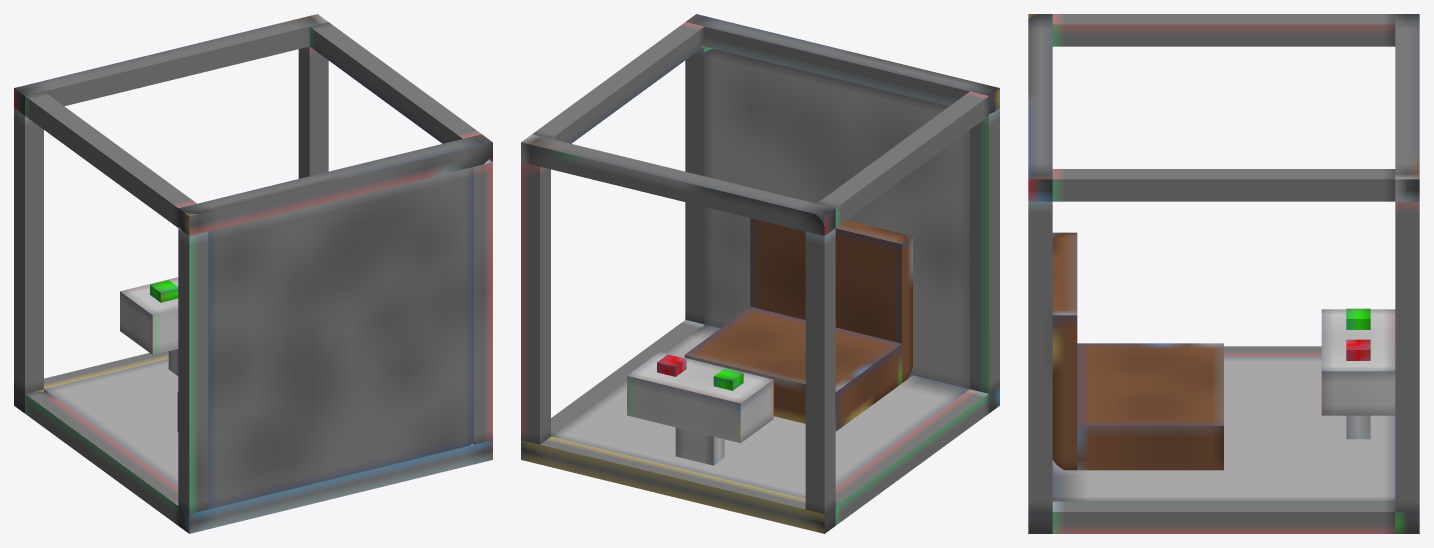
File: cockpit_frame_model.obj
3 views of the same model, side by side, from view 1: azimuth 30°, elevation 25°; view 2: azimuth 150°, elevation 25°; view 3: azimuth 270°, elevation 25° (orthographic). The views are drawn at different scales.
Visible parts, largest first — view 1: cube_7, cube_18, cube_8, cube_17, cube_14, cube_13, cube_10, cube_19, cube_11, cube_20, cube_15, cube_16 (+2 smaller); view 2: cube_7, cube_8, cube_6, cube_5, cube_17, cube_9, cube_18, cube_2, cube_13, cube_16, cube_14, cube_19 (+5 smaller); view 3: cube_8, cube_5, cube_19, cube_20, cube_12, cube_15, cube_16, cube_2, cube_6, cube_17, cube_18, cube_11 (+5 smaller).
Boxes of the visible parts, x1,y1,x2,y2 form: cube_7: (208, 167, 473, 509); cube_18: (178, 134, 492, 235); cube_8: (44, 359, 178, 486); cube_17: (14, 14, 327, 115); cube_14: (178, 228, 208, 513); cube_13: (14, 108, 43, 393); cube_10: (178, 440, 492, 533); cube_19: (25, 91, 196, 227); cube_11: (25, 391, 178, 525); cube_20: (309, 22, 481, 143); cube_15: (473, 159, 492, 444); cube_16: (298, 46, 328, 178); cube_7: (704, 46, 969, 388); cube_8: (551, 324, 969, 498); cube_6: (750, 218, 912, 382); cube_5: (684, 306, 901, 431); cube_17: (521, 134, 835, 235); cube_9: (521, 436, 835, 533); cube_18: (686, 14, 999, 114); cube_2: (627, 352, 773, 443); cube_13: (805, 225, 835, 513); cube_16: (521, 162, 550, 444); cube_14: (970, 108, 999, 393); cube_19: (817, 91, 988, 227); cube_8: (1052, 356, 1395, 501); cube_5: (1077, 343, 1223, 470); cube_19: (1052, 14, 1395, 46); cube_20: (1052, 169, 1395, 201); cube_12: (1052, 501, 1395, 533); cube_15: (1028, 201, 1052, 511); cube_16: (1395, 201, 1419, 511); cube_2: (1321, 309, 1395, 415); cube_6: (1052, 232, 1077, 470); cube_17: (1395, 14, 1419, 201); cube_18: (1028, 14, 1052, 201); cube_11: (1224, 346, 1321, 356).
Size of the model in its own units: 1 by 1 by 1.
